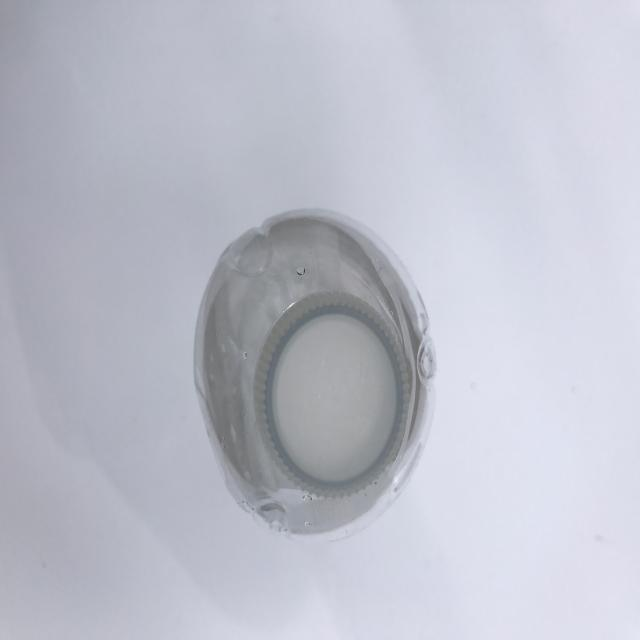plastic: (187, 204, 442, 556)
